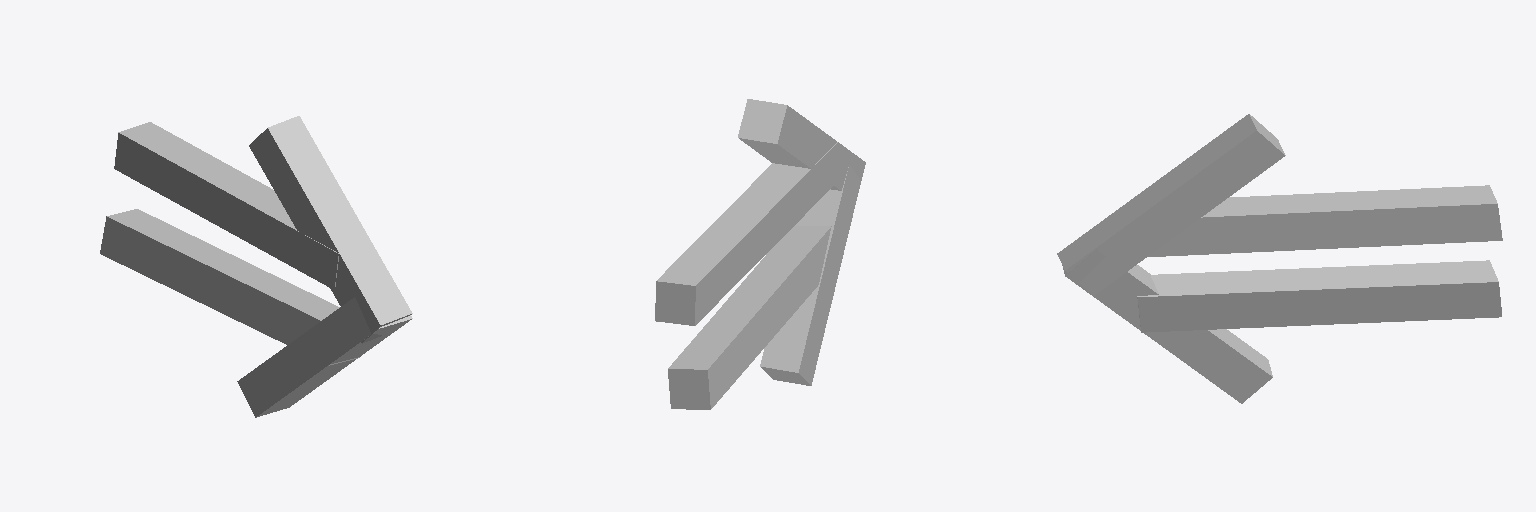
File: directionalarrow.obj
The picture shows the model from 3 angles: view 1: azimuth 30°, elevation 25°; view 2: azimuth 150°, elevation 25°; view 3: azimuth 270°, elevation 25°; orthographic projection.
Parts seen in each view (by area): view 1: group[number redacted], group[number redacted], group[number redacted], group[number redacted]; view 2: group[number redacted], group[number redacted], group[number redacted], group[number redacted]; view 3: group[number redacted], group[number redacted], group[number redacted], group[number redacted].
Boxes of the visible parts, <box> form: group[number redacted]: <box>100,209,359,365</box>; group[number redacted]: <box>114,122,338,289</box>; group[number redacted]: <box>249,116,412,343</box>; group[number redacted]: <box>237,297,412,417</box>; group[number redacted]: <box>668,226,831,409</box>; group[number redacted]: <box>655,142,837,325</box>; group[number redacted]: <box>760,165,860,385</box>; group[number redacted]: <box>738,99,865,190</box>; group[number redacted]: <box>1137,260,1501,332</box>; group[number redacted]: <box>1148,185,1502,256</box>; group[number redacted]: <box>1057,114,1285,295</box>; group[number redacted]: <box>1062,249,1272,403</box>.
Bounding box in the file's own units: 0.2171 × 0.5908 × 0.8454.